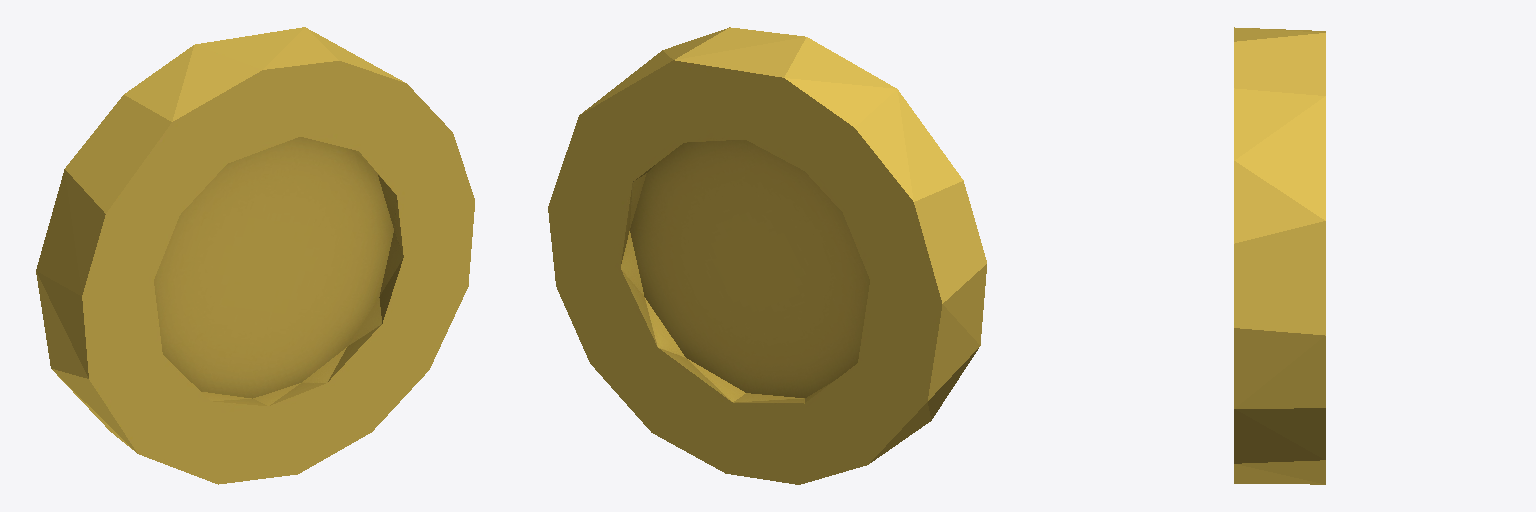
3 renders of one model, left to right at view 1: azimuth 30°, elevation 25°; view 2: azimuth 150°, elevation 25°; view 3: azimuth 270°, elevation 25°, orthographic.
Parts seen in each view (by area): view 1: Coin.001_Circle.001; view 2: Coin.001_Circle.001; view 3: Coin.001_Circle.001.
Boxes of the visible parts, <box> form: Coin.001_Circle.001: <box>36,27,474,484</box>; Coin.001_Circle.001: <box>548,27,986,484</box>; Coin.001_Circle.001: <box>1234,27,1325,484</box>.
Size of the model in its own units: 2 by 2 by 0.4.
Materials: 1 (1 with a texture image).